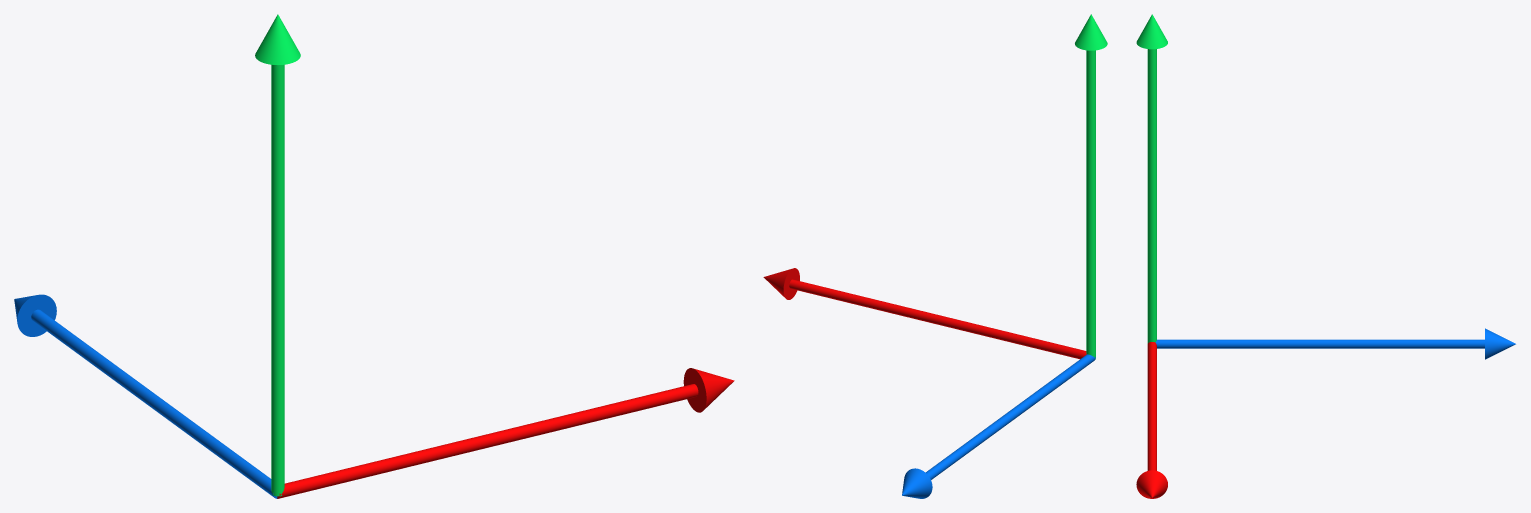
Rendered from xyz.fbx.
The picture shows the model from 3 angles, left to right: view 1: azimuth 30°, elevation 25°; view 2: azimuth 150°, elevation 25°; view 3: azimuth 270°, elevation 25°; orthographic projection. The views are drawn at different scales.
Visible parts, largest first — view 1: 圆柱_3, 圆柱_2, 圆柱, 圆锥_3, 圆锥_2, 圆锥; view 2: 圆柱_2, 圆柱_3, 圆柱, 圆锥, 圆锥_3, 圆锥_2; view 3: 圆柱, 圆柱_3, 圆柱_2, 圆锥_2, 圆锥_3, 圆锥.
Part boxes in pixels (x1,y1,x2,y2): 圆柱_3: [271, 64, 284, 496]; 圆柱_2: [277, 384, 698, 498]; 圆柱: [31, 309, 277, 498]; 圆锥_3: [255, 14, 300, 64]; 圆锥_2: [683, 368, 734, 412]; 圆锥: [14, 294, 56, 336]; 圆柱_2: [789, 279, 1086, 359]; 圆柱_3: [1086, 50, 1095, 358]; 圆柱: [925, 354, 1095, 479]; 圆锥: [902, 468, 932, 498]; 圆锥_3: [1075, 14, 1107, 50]; 圆锥_2: [763, 268, 799, 299]; 圆柱: [1155, 339, 1484, 348]; 圆柱_3: [1147, 49, 1156, 343]; 圆柱_2: [1147, 342, 1156, 470]; 圆锥_2: [1136, 470, 1167, 498]; 圆锥_3: [1136, 14, 1167, 49]; 圆锥: [1485, 328, 1515, 359].
Bounding box in the file's own units: 414 × 414 × 414.
